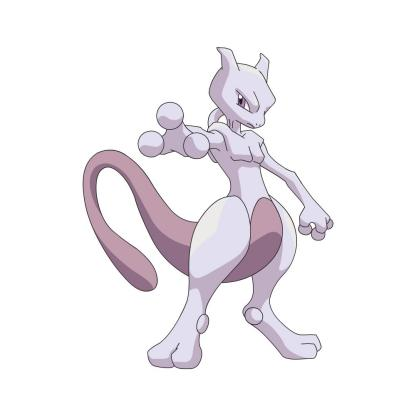Mewtwo: (76, 44, 355, 374)
